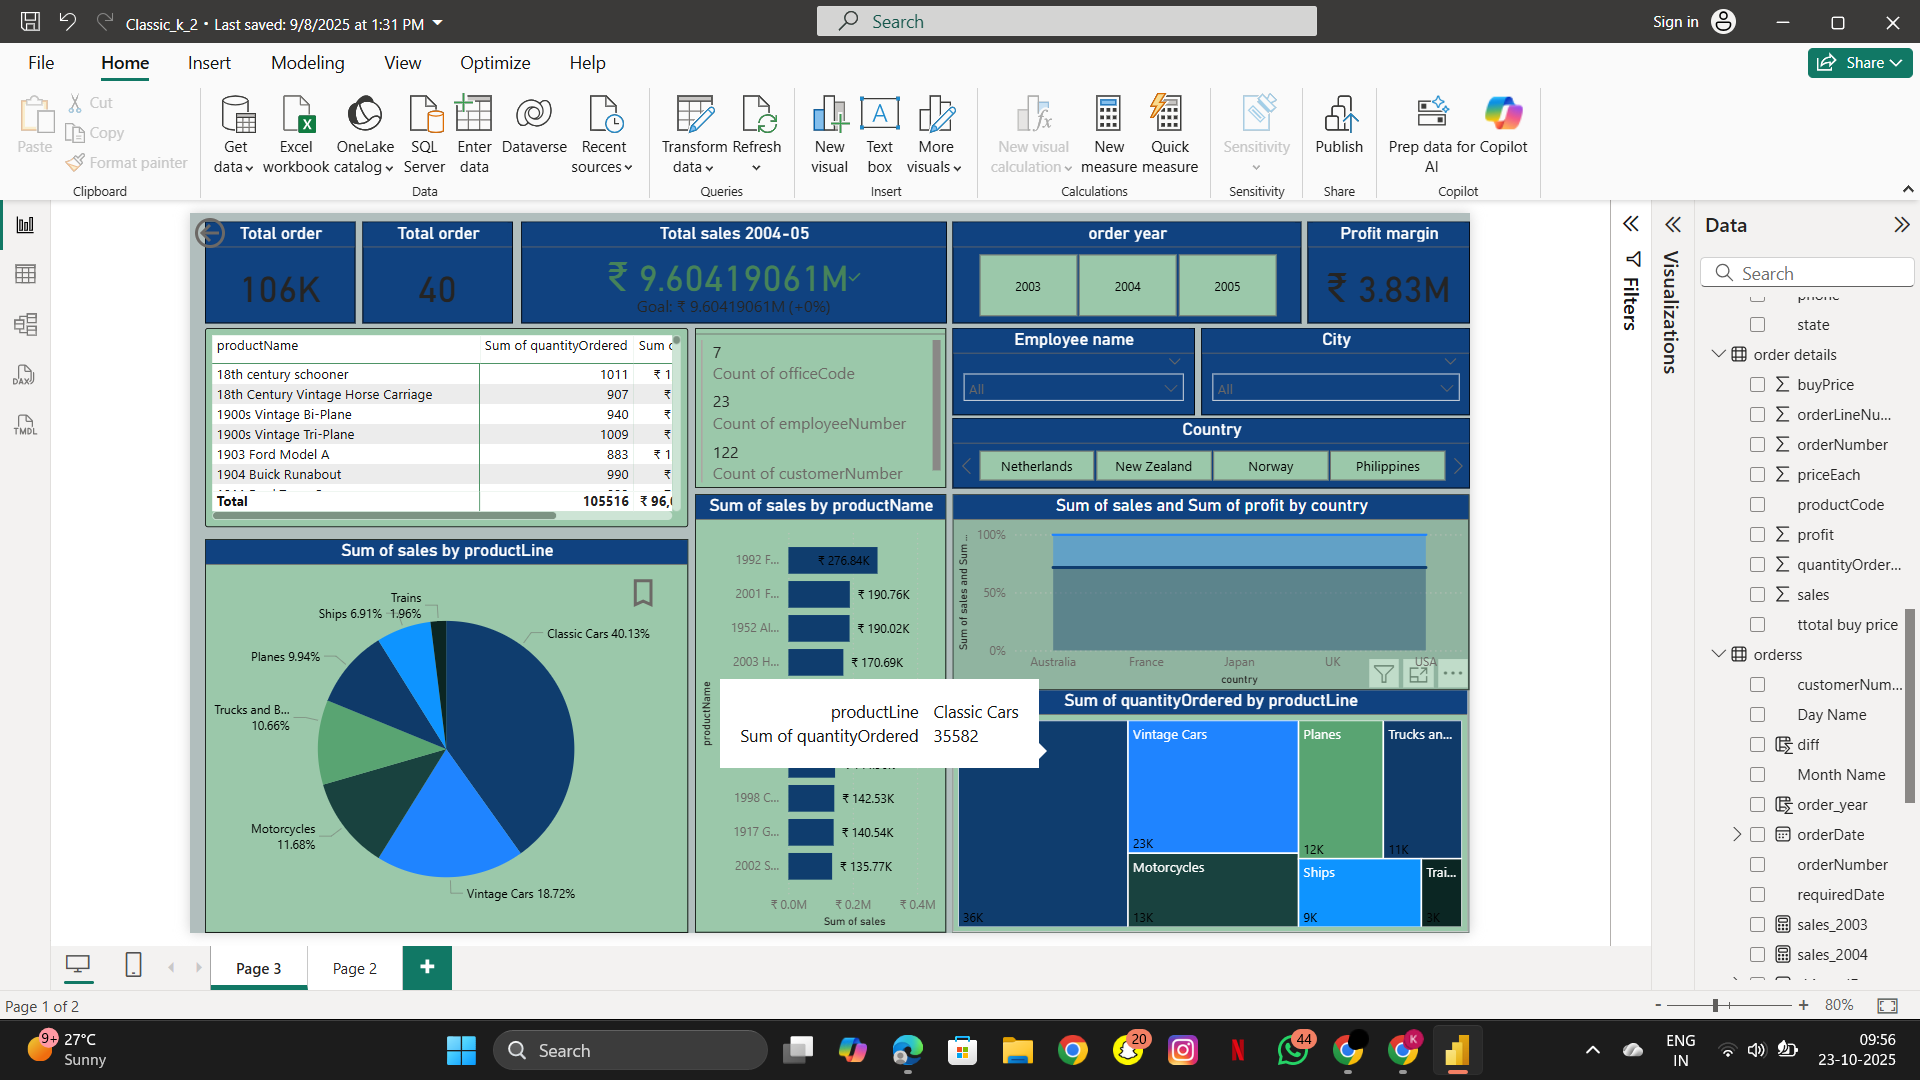

The dashboard page shown, as its layout file describes it:
{"tool":"powerbi","page":{"name":"Page 3","canvas":[1280,720],"ordinal":0},"visuals":[{"type":"barChart","fields":{"Category":["products.productName"],"Y":["Sum(order details.sales)"]},"box":[504.7,281.3,251.4,438.3],"z":0},{"type":"pieChart","fields":{"Category":["products.productLine"],"Y":["Sum(order details.sales)"]},"box":[15,326.2,483.2,393.5],"z":1000},{"type":"pivotTable","fields":{"Rows":["products.productLine","products.productName"],"Values":["Sum(order details.quantityOrdered)","Sum(order details.sales)"]},"box":[15,115,483.2,199.1],"z":2000},{"type":"card","title":"Total order","fields":{"Values":["Sum(order details.quantityOrdered)"]},"box":[15,8.4,150.5,101.9],"z":3000},{"type":"multiRowCard","fields":{"Values":["offices.officeCode","Count(employees.employeeNumber)","customers.customerNumber"]},"box":[504.7,115,251.4,159.8],"z":4000},{"type":"kpi","title":"Total sales 2004-05","fields":{"Goal":["orderss.sales_2003"],"Indicator":["orderss.sales_2004"],"TrendLine":["orderss.Month Name"]},"box":[330.8,8.4,425.2,101.9],"z":5000},{"type":"treemap","fields":{"Group":["productlines.productLine"],"Values":["Sum(order details.quantityOrdered)"]},"box":[762.6,476.6,515.9,243],"z":6000},{"type":"card","title":"Total order","fields":{"Values":["classic_models_dataset.Profit_Margin_%"]},"box":[172.9,8.4,150.5,101.9],"z":7000},{"type":"slicer","title":"order year","fields":{"Values":["orderss.order_year"]},"box":[762.6,8.4,348.6,101.9],"z":8000},{"type":"actionButton","box":[0,0,100,40],"z":9000},{"type":"card","title":"Profit margin","fields":{"Values":["Sum(order details.profit)"]},"box":[1117.8,8.4,162.6,101.9],"z":10000},{"type":"slicer","title":"City","fields":{"Values":["offices.city"]},"box":[1011.2,115,269.2,86.9],"z":11000},{"type":"slicer","title":"Employee name","fields":{"Values":["employees.FullName"]},"box":[762.6,115,242.1,86.9],"z":12000},{"type":"slicer","title":"Country","fields":{"Values":["customers.country"]},"box":[762.6,204.7,517.8,70.1],"z":13000},{"type":"actionButton","box":[435.5,359.8,36.4,40.2],"z":14000},{"type":"hundredPercentStackedAreaChart","fields":{"Category":["offices.country"],"Y":["Sum(order details.sales)","Sum(order details.profit)"]},"box":[763,281,517,196],"z":15000}]}

Visuals, with their boxes on the page's 1280x720 design canvas (x1, y1, x2, y2). These are canvas units, not pixel positions in the 1920x1080 screenshot, which may show the page scaled, cropped or inside an application window:
barChart - products.productName x Sum(order details.sales): bbox=(505, 281, 756, 720)
pieChart - products.productLine x Sum(order details.sales): bbox=(15, 326, 498, 720)
pivotTable - products.productLine x products.productName: bbox=(15, 115, 498, 314)
"Total order" card: bbox=(15, 8, 166, 110)
multiRowCard - offices.officeCode x Count(employees.employeeNumber): bbox=(505, 115, 756, 275)
"Total sales 2004-05" kpi: bbox=(331, 8, 756, 110)
treemap - productlines.productLine x Sum(order details.quantityOrdered): bbox=(763, 477, 1278, 720)
"Total order" card: bbox=(173, 8, 323, 110)
"order year" slicer: bbox=(763, 8, 1111, 110)
actionButton: bbox=(0, 0, 100, 40)
"Profit margin" card: bbox=(1118, 8, 1280, 110)
"City" slicer: bbox=(1011, 115, 1280, 202)
"Employee name" slicer: bbox=(763, 115, 1005, 202)
"Country" slicer: bbox=(763, 205, 1280, 275)
actionButton: bbox=(436, 360, 472, 400)
hundredPercentStackedAreaChart - offices.country x Sum(order details.sales): bbox=(763, 281, 1280, 477)
